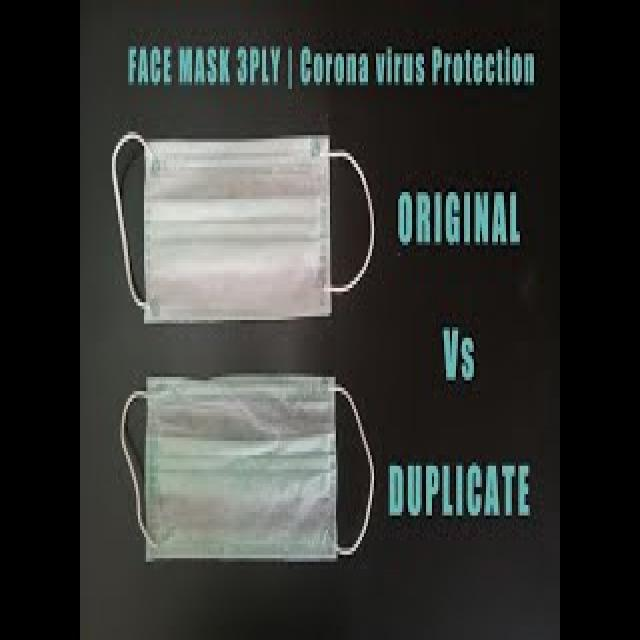non-organic waste: (110, 128, 378, 327), (122, 370, 374, 565)
